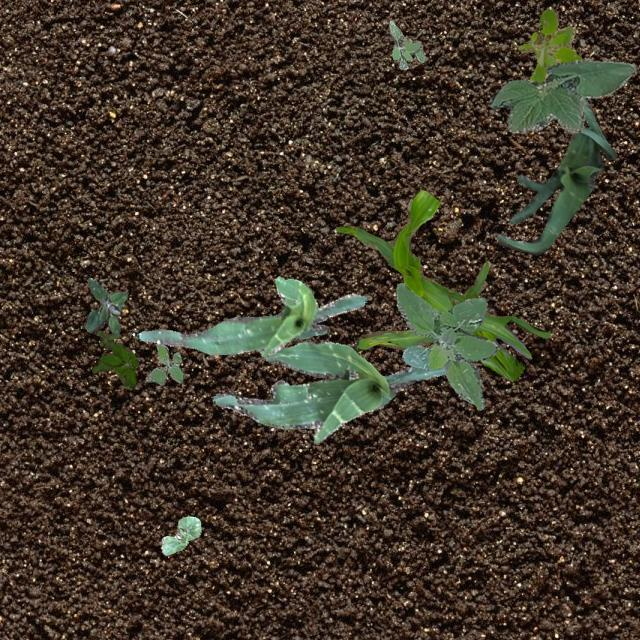crop: (334, 188, 550, 380), (212, 341, 446, 442), (496, 96, 616, 254), (137, 274, 366, 356), (488, 58, 636, 132), (160, 516, 200, 554)
weed: (394, 282, 498, 408), (518, 8, 580, 82), (90, 330, 138, 386), (85, 276, 126, 334), (388, 18, 426, 68), (144, 342, 183, 384)
